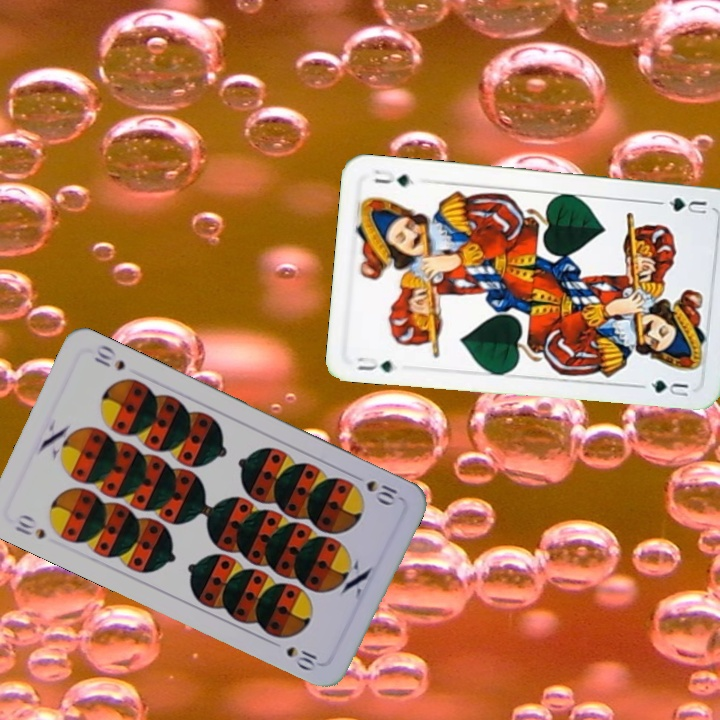GU: (655, 193, 710, 217), (352, 352, 396, 376)
S10: (361, 476, 403, 508), (10, 510, 48, 542)
